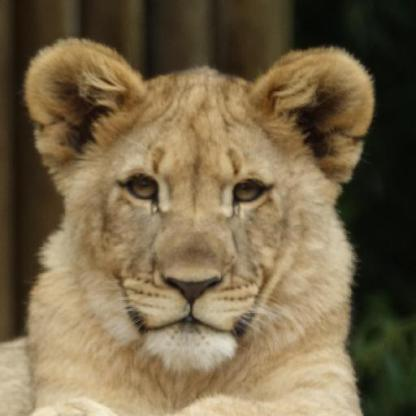lion: (38, 52, 367, 354)
